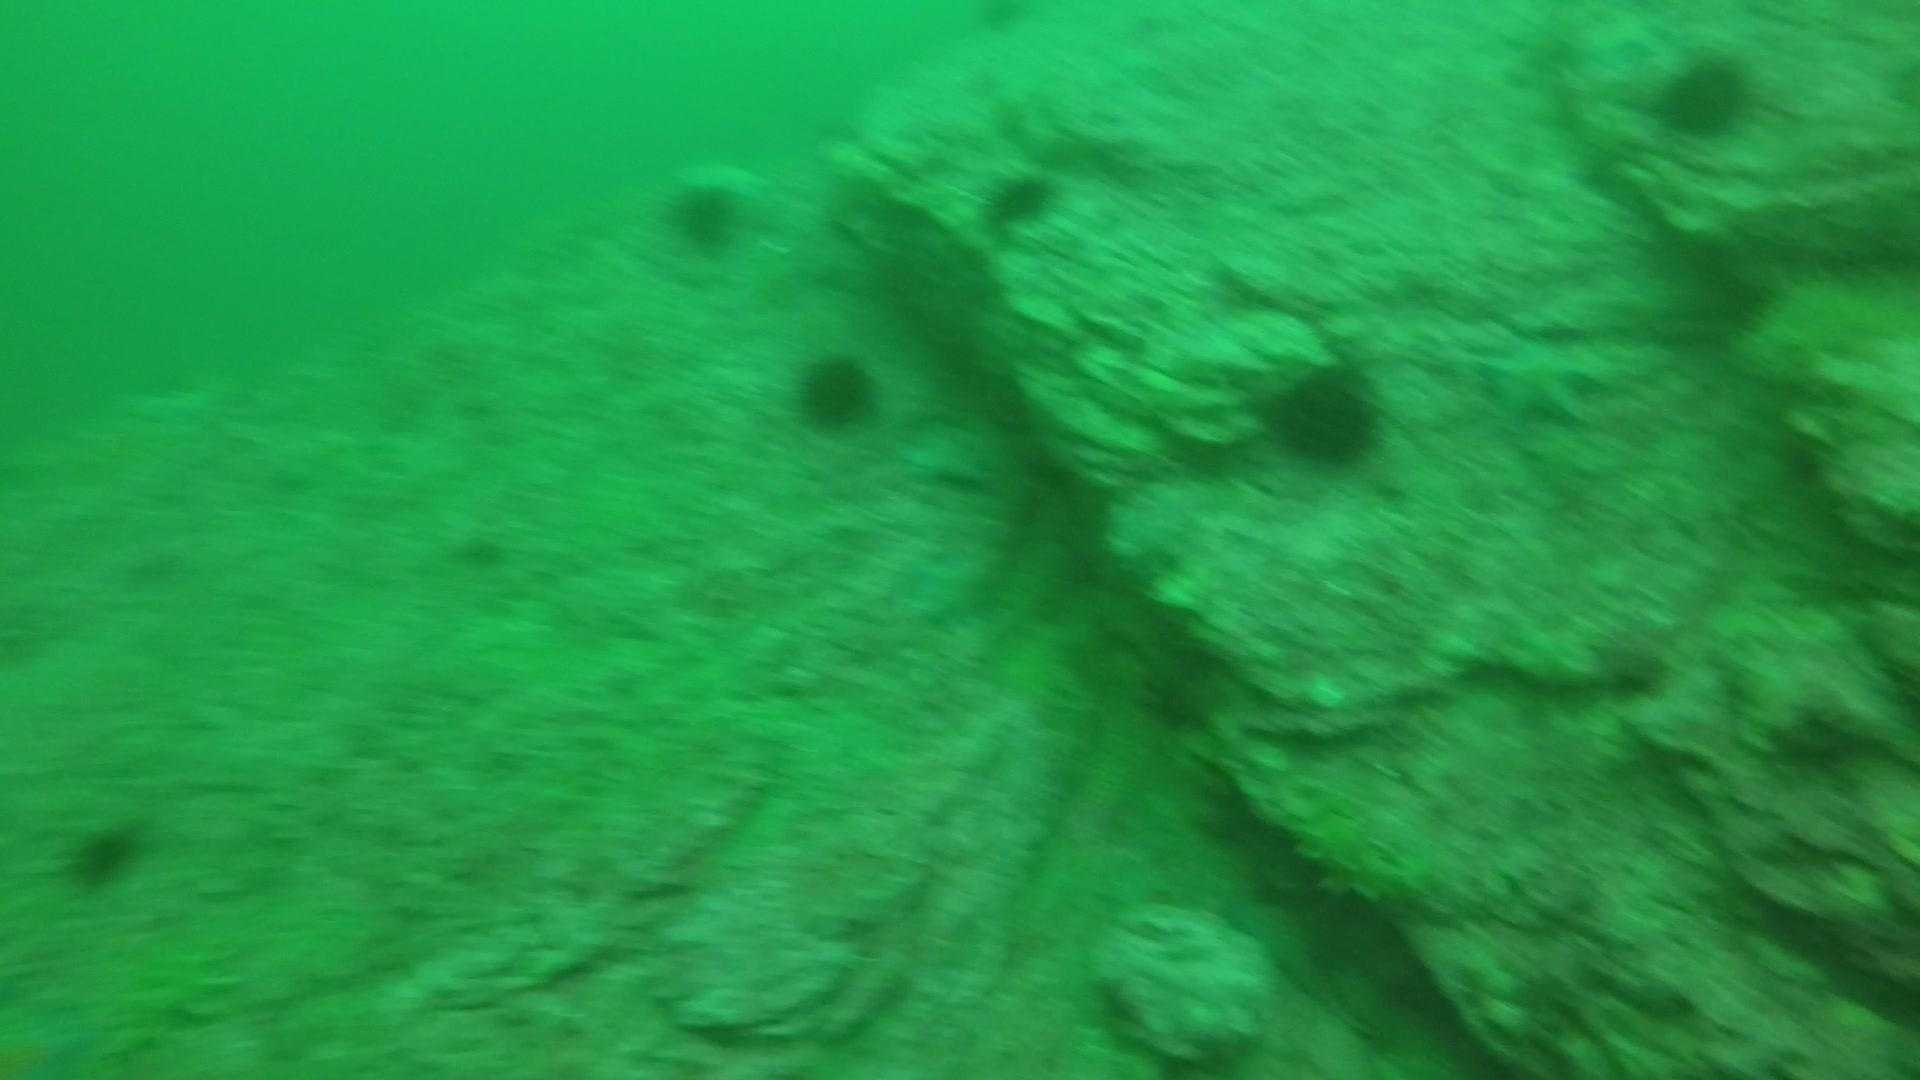echinus: (1263, 353, 1390, 473), (1648, 47, 1760, 145), (789, 345, 884, 436), (58, 810, 153, 894), (659, 171, 749, 256), (978, 164, 1064, 233)
starfish: (1472, 328, 1611, 433)
